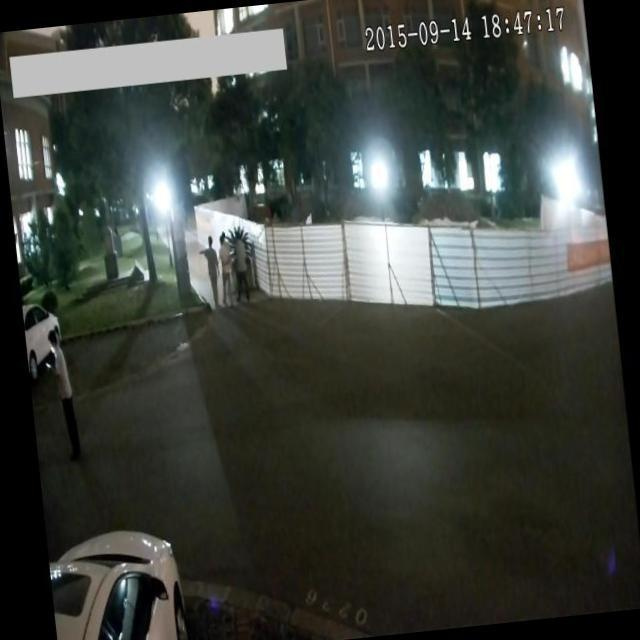person: (40, 324, 87, 472), (194, 228, 222, 311), (231, 228, 256, 309), (215, 227, 237, 311)
